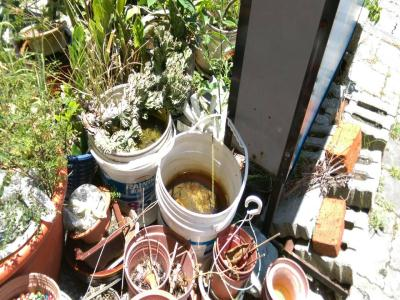bucket: (82, 84, 177, 229), (150, 127, 244, 270)
